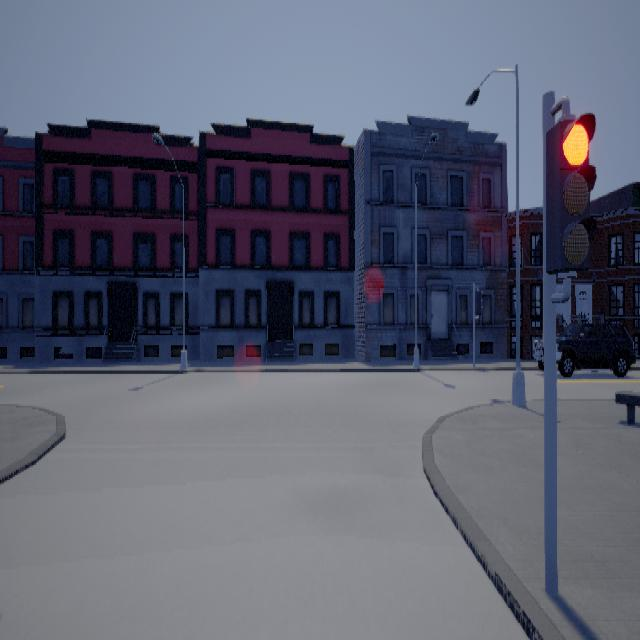red_light: (545, 95, 596, 302)
vehicle: (532, 320, 635, 377)
